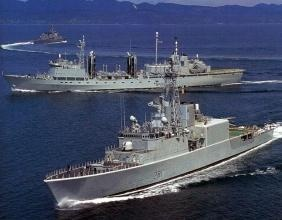warship: (41, 79, 278, 209), (5, 41, 258, 89), (26, 28, 80, 48)
